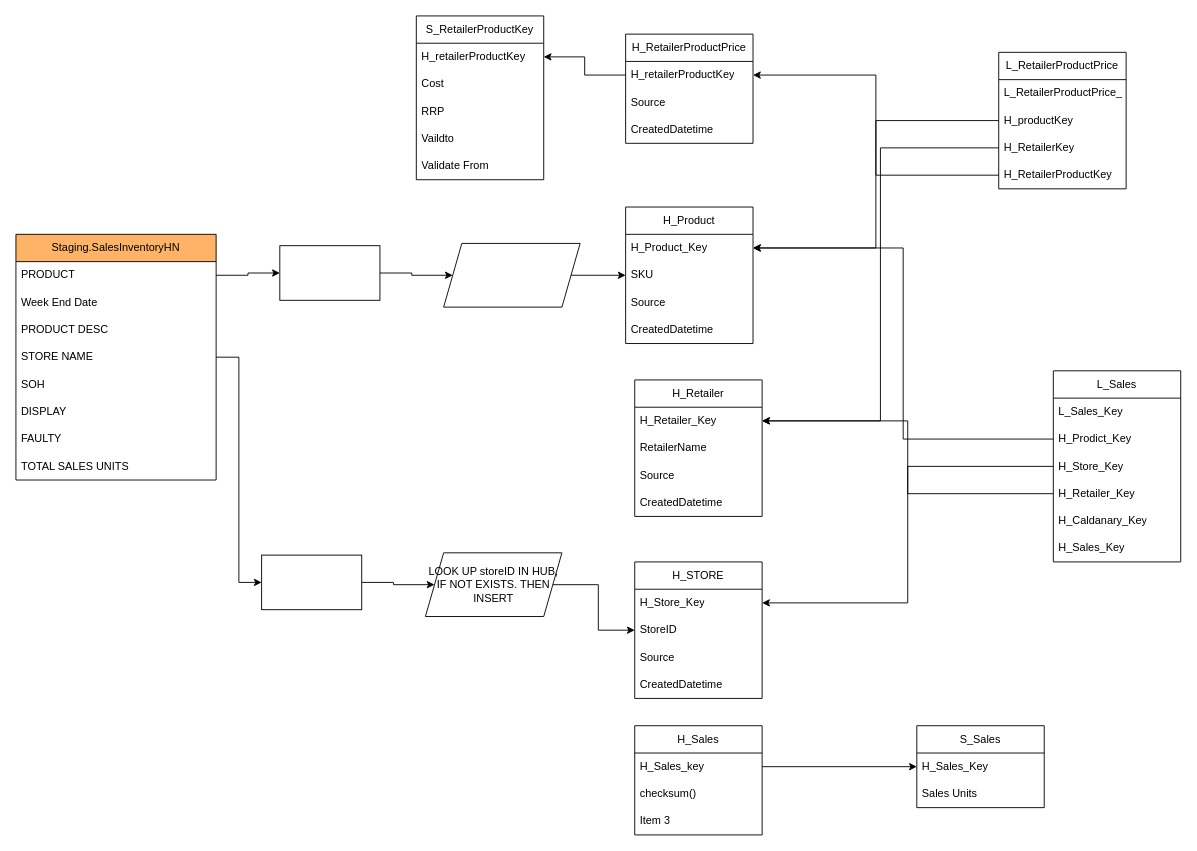
Image size: 1197x851. Some labels were removed from this diagram. Here are the shapes that lost their labels. From the top down, the centre of each, then its label:
(x=329, y=272): SELECT PRODUCT / SKU
(x=511, y=275): LOOK UP SKU IN HUB, IF NOT EXISTS. THEN INSERT
(x=311, y=582): SELECT Store ID
